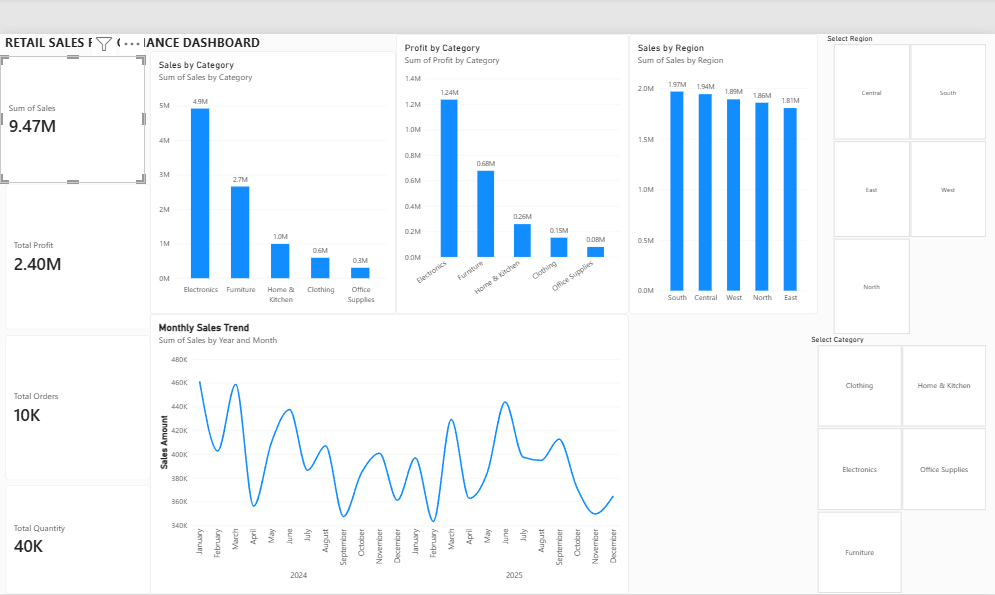

Layout of this report page (visuals, bound fields, positions):
{"tool":"powerbi","page":{"name":"Page 1","canvas":[1920,1080],"ordinal":0},"visuals":[{"type":"cardVisual","fields":{"Data":["Sum(retail_sales sales.Sales)"]},"box":[0,42.4,279.5,244.8],"z":0},{"type":"cardVisual","fields":{"Data":["Sum(retail_sales sales.Profit)"]},"box":[10,290,280,280],"z":1000},{"type":"cardVisual","fields":{"Data":["retail_sales sales.Total Orders"]},"box":[10,580,280,280],"z":2000},{"type":"cardVisual","fields":{"Data":["Sum(retail_sales sales.Quantity)"]},"box":[10,870,280,210],"z":3000},{"type":"clusteredColumnChart","title":"Sales by Category","fields":{"Category":["retail_sales sales.Category"],"Y":["Sum(retail_sales sales.Sales)"]},"box":[289.2,32.8,474.2,507],"z":4000},{"type":"clusteredColumnChart","title":"Profit by Category","fields":{"Category":["retail_sales sales.Category"],"Y":["Sum(retail_sales sales.Profit)"]},"box":[763.4,0,449.2,539.8],"z":5000},{"type":"clusteredColumnChart","title":"Sales by Region","fields":{"Category":["retail_sales sales.Region"],"Y":["Sum(retail_sales sales.Sales)"]},"box":[1212.5,0,364.3,539.8],"z":6000},{"type":"lineChart","title":"Monthly Sales Trend","fields":{"Category":["retail_sales sales.Order_Date.Variation.Date Hierarchy.Year","retail_sales sales.Order_Date.Variation.Date Hierarchy.Month"],"Y":["Sum(retail_sales sales.Sales)"]},"box":[289.2,539.8,923.4,539.8],"z":7000},{"type":"slicer","fields":{"Values":["retail_sales sales.Region"]},"box":[1587,0,333,580],"z":8000},{"type":"slicer","fields":{"Values":["retail_sales sales.Category"]},"box":[1555.7,580.2,364,499],"z":9000},{"type":"textbox","box":[9.6,0,728.7,104.1],"z":10000}]}

Visuals, with their boxes on the page's 1920x1080 design canvas (x1, y1, x2, y2). These are canvas units, not pixel positions in the 995x595 screenshot, which may show the page scaled, cropped or inside an application window:
cardVisual - Sum(retail_sales sales.Sales): BBox(0, 42, 280, 287)
cardVisual - Sum(retail_sales sales.Profit): BBox(10, 290, 290, 570)
cardVisual - retail_sales sales.Total Orders: BBox(10, 580, 290, 860)
cardVisual - Sum(retail_sales sales.Quantity): BBox(10, 870, 290, 1080)
"Sales by Category" clusteredColumnChart: BBox(289, 33, 763, 540)
"Profit by Category" clusteredColumnChart: BBox(763, 0, 1213, 540)
"Sales by Region" clusteredColumnChart: BBox(1212, 0, 1577, 540)
"Monthly Sales Trend" lineChart: BBox(289, 540, 1213, 1080)
slicer - retail_sales sales.Region: BBox(1587, 0, 1920, 580)
slicer - retail_sales sales.Category: BBox(1556, 580, 1920, 1079)
textbox: BBox(10, 0, 738, 104)
